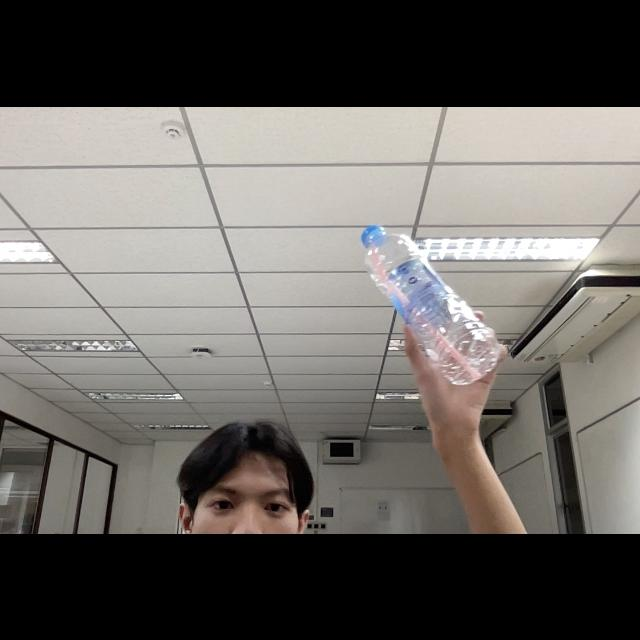plastic_bottle: (354, 214, 516, 398)
